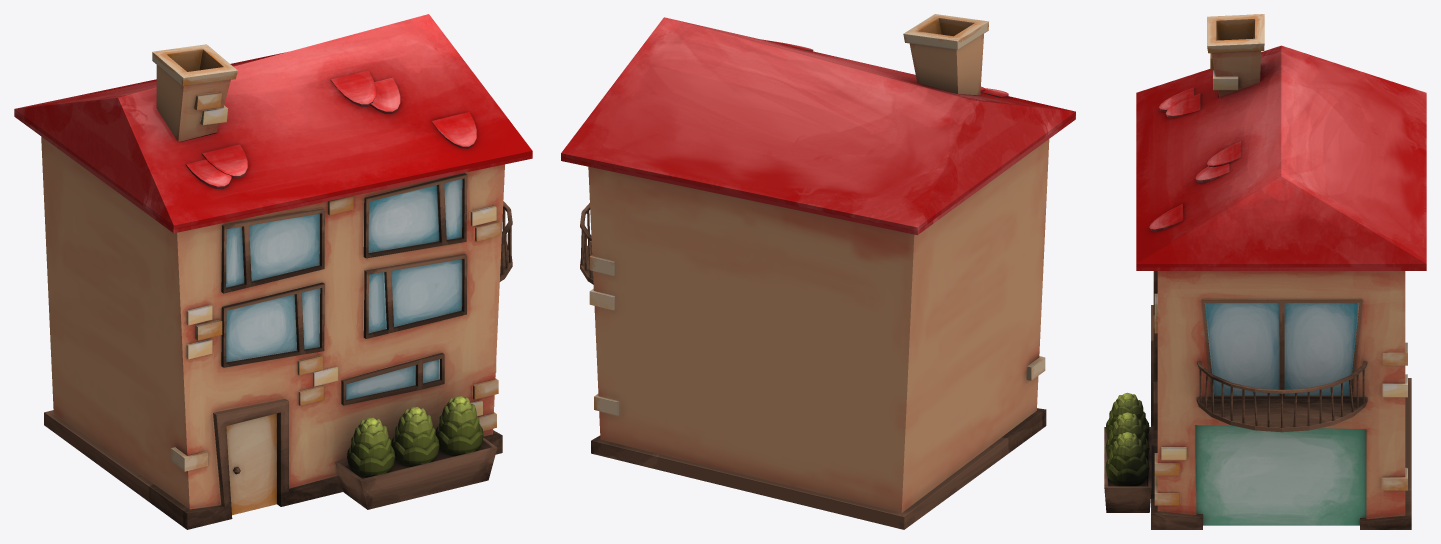
The model's file is Casa_Garaje.fbx.
3 views of the same model, side by side, from view 1: azimuth 30°, elevation 25°; view 2: azimuth 150°, elevation 25°; view 3: azimuth 270°, elevation 25° (orthographic). The views are drawn at different scales.
Visible parts, largest first — view 1: Casa_Garaje; view 2: Casa_Garaje; view 3: Casa_Garaje.
Boxes of the visible parts, x1,y1,x2,y2 form: Casa_Garaje: (14,14,532,529); Casa_Garaje: (561,14,1075,529); Casa_Garaje: (1104,14,1426,529).
Bounding box in the file's own units: 47.44 × 47.51 × 35.76.
